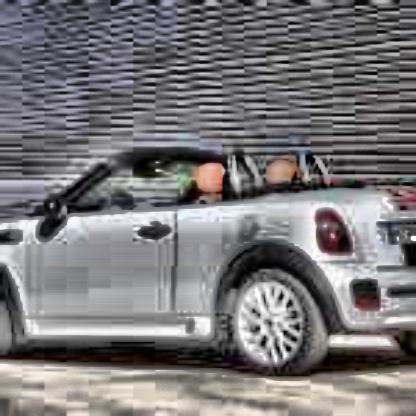MINI Cooper Roadster Convertible 2012: (4, 159, 416, 378)
